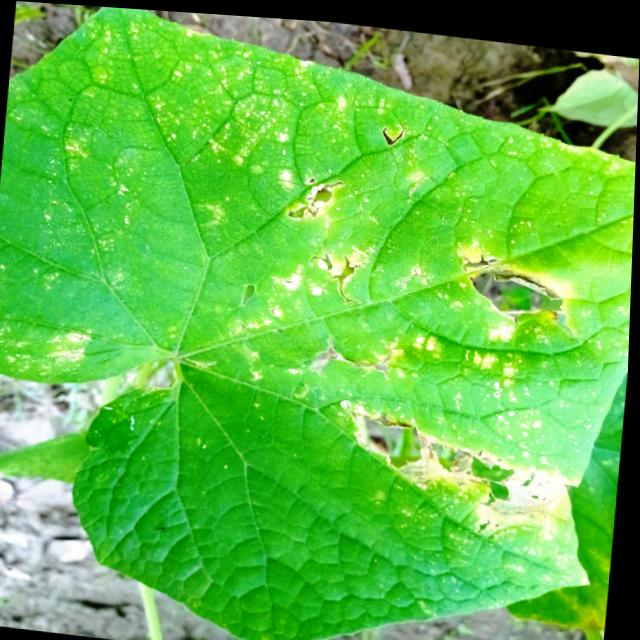Anthracnose: (342, 399, 561, 541), (453, 254, 583, 335), (281, 168, 344, 236), (306, 245, 365, 308)
